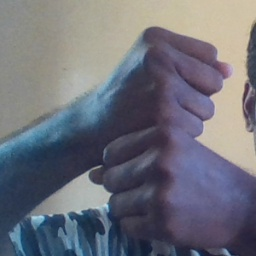G: (95, 26, 230, 244)
